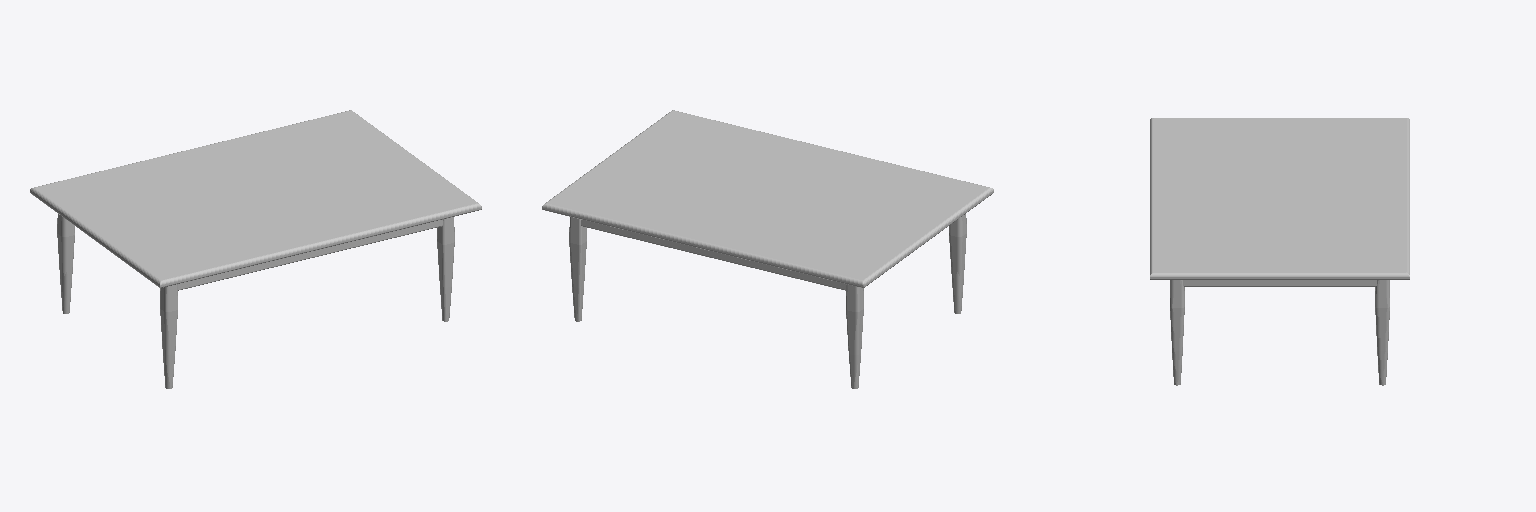
File: table.obj
The picture shows the model from 3 angles: view 1: azimuth 30°, elevation 25°; view 2: azimuth 150°, elevation 25°; view 3: azimuth 270°, elevation 25°; orthographic projection.
Parts seen in each view (by area): view 1: Cube; view 2: Cube; view 3: Cube.
Part boxes in pixels (x1,y1,x2,y2): Cube: (30, 110, 481, 388); Cube: (542, 110, 993, 388); Cube: (1150, 118, 1409, 385).
Bounding box in the file's own units: 2 × 0.7174 × 1.4.